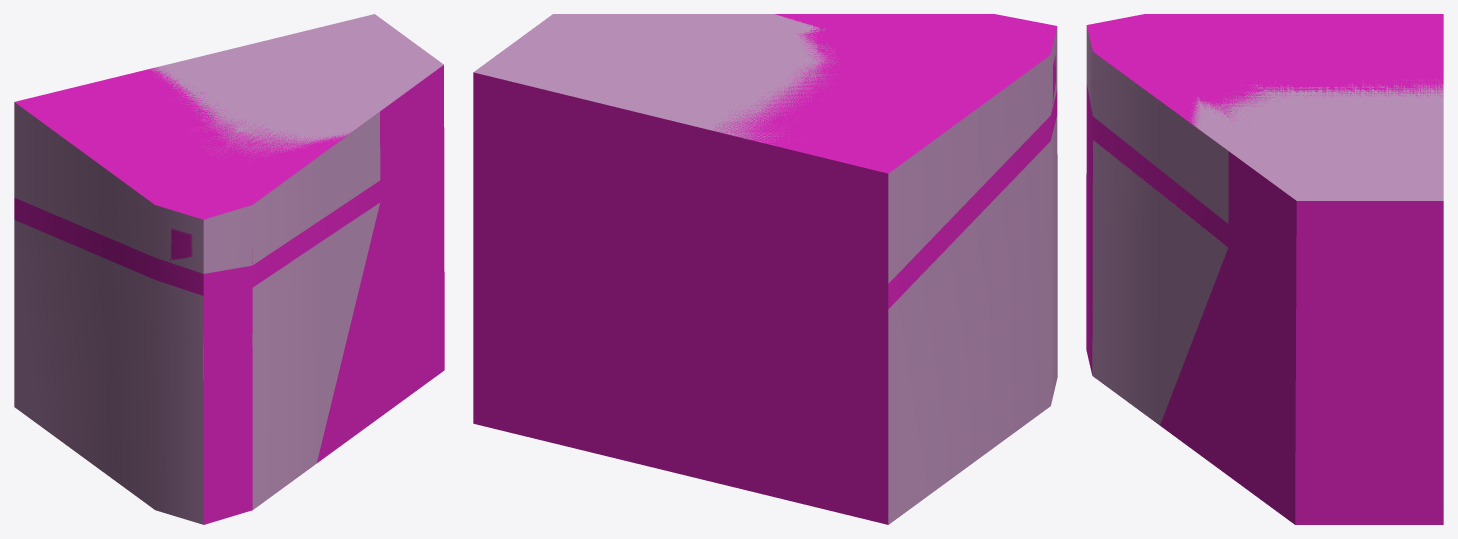
Rendered from building6.fbx.
3 renders of one model, left to right at view 1: azimuth 30°, elevation 25°; view 2: azimuth 150°, elevation 25°; view 3: azimuth 270°, elevation 25°, orthographic. The views are drawn at different scales.
Visible parts, largest first — view 1: building6_MESH, building6_COL; view 2: building6_COL, building6_MESH; view 3: building6_COL, building6_MESH.
Part boxes in pixels (bbox=[...]): building6_MESH: bbox=[14, 14, 443, 524]; building6_COL: bbox=[14, 65, 444, 524]; building6_COL: bbox=[473, 14, 1057, 524]; building6_MESH: bbox=[474, 14, 1057, 524]; building6_COL: bbox=[1086, 14, 1443, 524]; building6_MESH: bbox=[1086, 25, 1443, 425].
Size of the model in its own units: 791 by 639 by 639.
